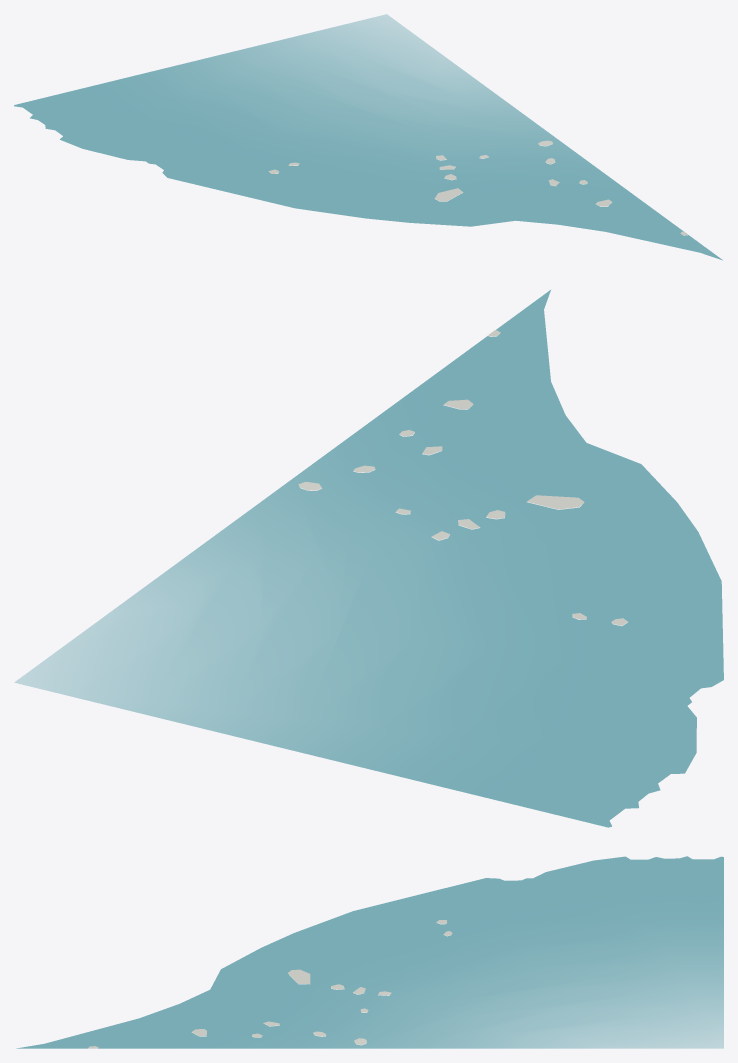
3 views of the same model, one above another, from view 1: azimuth 30°, elevation 25°; view 2: azimuth 150°, elevation 25°; view 3: azimuth 270°, elevation 25° (orthographic). The views are drawn at different scales.
Visible parts, largest first — view 1: city; view 2: city; view 3: city.
Part boxes in pixels (<box>): city: <box>14,14,722,260</box>; city: <box>14,290,723,827</box>; city: <box>16,856,723,1048</box>.
Bounding box in the file's own units: 270 × 0.18 × 420.
